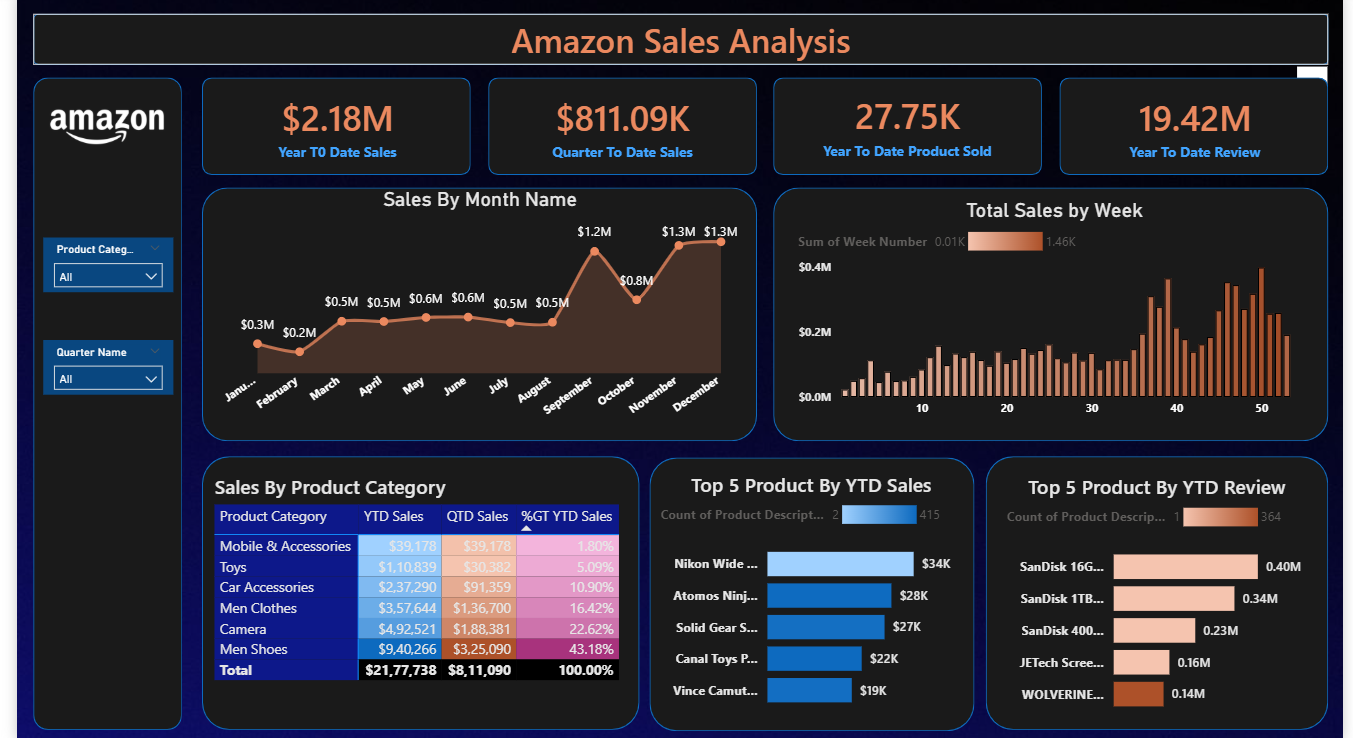

This screenshot's page, from the dashboard's own definition file:
{"tool":"powerbi","page":{"name":"Page 1","canvas":[1280,720],"ordinal":0},"visuals":[{"type":"shape","box":[15.1,17.8,1250.1,49.4],"z":0},{"type":"shape","box":[15.7,79.6,143.6,629.8],"z":1000},{"type":"shape","box":[178.6,79.6,259.4,94.1],"z":2000},{"type":"card","title":"Year To Date Sales","fields":{"Values":["Amazon_Data.YTD Sales"]},"box":[193,86.9,232.8,80.8],"z":3000},{"type":"shape","box":[454.4,79.6,259.4,94.1],"z":4000},{"type":"shape","box":[730.3,79.6,259.4,94.1],"z":5000},{"type":"shape","box":[1006.2,79.6,259.4,94.1],"z":6000},{"type":"card","title":"Year To Date Sales","fields":{"Values":["Amazon_Data.QTD Sales"]},"box":[468.1,86.9,232.8,80.8],"z":7000},{"type":"card","title":"Year To Date Sales","fields":{"Values":["Amazon_Data.YTD Product Sold"]},"box":[743.2,85.7,232.8,80.8],"z":8000},{"type":"card","title":"Year To Date Sales","fields":{"Values":["Amazon_Data.YTD review"]},"box":[1020.6,86.9,232.8,80.8],"z":9000},{"type":"shape","box":[178.6,185.8,535.7,244.9],"z":10000},{"type":"shape","box":[178.6,445.2,422.3,264.2],"z":11000},{"type":"areaChart","title":"Sales By Month Name","fields":{"Category":["Date.Month Name"],"Y":["Sum(Amazon_Data.Price(Dollar))"]},"box":[193,185.8,507.9,230.4],"z":12000},{"type":"shape","box":[729.9,185.8,535.7,244.9],"z":13000},{"type":"columnChart","title":"Total Sales by Week ","fields":{"Category":["Date.Week Number"],"Y":["Sum(Amazon_Data.Price(Dollar))"]},"box":[749.2,196.6,504.3,219.6],"z":14000},{"type":"pivotTable","title":"Sales By Product Category","fields":{"Rows":["Amazon_Data.Product Category"],"Values":["Amazon_Data.YTD Sales","Amazon_Data.QTD Sales","Divide(Amazon_Data.YTD Sales, ScopedEval(Amazon_Data.YTD Sales, []))"]},"box":[185.8,462.1,407.8,211.1],"z":15000},{"type":"shape","box":[610.5,446.4,313.7,264.2],"z":16000},{"type":"shape","box":[935,445.2,330.6,264.2],"z":17000},{"type":"clusteredBarChart","title":"Top 5 Product By YTD Sales","fields":{"Category":["Amazon_Data.Product Description"],"Y":["Amazon_Data.YTD Sales"]},"box":[616.5,459.7,300.4,241.3],"z":18000},{"type":"clusteredBarChart","title":"Top 5 Product By YTD Review","fields":{"Y":["Amazon_Data.YTD review"],"Category":["Amazon_Data.Product Description"]},"box":[950.9,462.4,299.1,242.9],"z":19000},{"type":"slicer","fields":{"Values":["Amazon_Data.Product Category"]},"box":[25.3,234,125.5,53.1],"z":19001},{"type":"slicer","fields":{"Values":["Date.Quarter Name"]},"box":[25.3,333,125.5,53.1],"z":19002},{"type":"image","box":[22.9,100.1,127.9,54.3],"z":19003}]}

Visuals, with their boxes on the page's 1280x720 design canvas (x1, y1, x2, y2). These are canvas units, not pixel positions in the 1353x738 screenshot, which may show the page scaled, cropped or inside an application window:
shape: box=[15, 18, 1265, 67]
shape: box=[16, 80, 159, 709]
shape: box=[179, 80, 438, 174]
"Year To Date Sales" card: box=[193, 87, 426, 168]
shape: box=[454, 80, 714, 174]
shape: box=[730, 80, 990, 174]
shape: box=[1006, 80, 1266, 174]
"Year To Date Sales" card: box=[468, 87, 701, 168]
"Year To Date Sales" card: box=[743, 86, 976, 166]
"Year To Date Sales" card: box=[1021, 87, 1253, 168]
shape: box=[179, 186, 714, 431]
shape: box=[179, 445, 601, 709]
"Sales By Month Name" areaChart: box=[193, 186, 701, 416]
shape: box=[730, 186, 1266, 431]
"Total Sales by Week " columnChart: box=[749, 197, 1254, 416]
"Sales By Product Category" pivotTable: box=[186, 462, 594, 673]
shape: box=[610, 446, 924, 711]
shape: box=[935, 445, 1266, 709]
"Top 5 Product By YTD Sales" clusteredBarChart: box=[616, 460, 917, 701]
"Top 5 Product By YTD Review" clusteredBarChart: box=[951, 462, 1250, 705]
slicer - Amazon_Data.Product Category: box=[25, 234, 151, 287]
slicer - Date.Quarter Name: box=[25, 333, 151, 386]
image: box=[23, 100, 151, 154]
